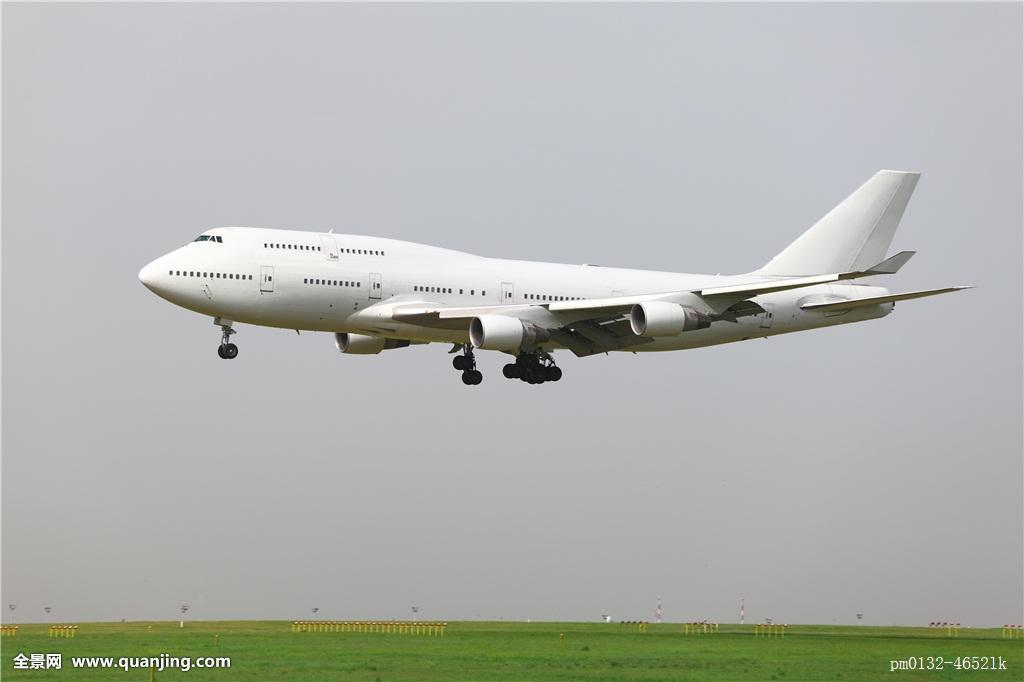airplane: (134, 161, 961, 385)
